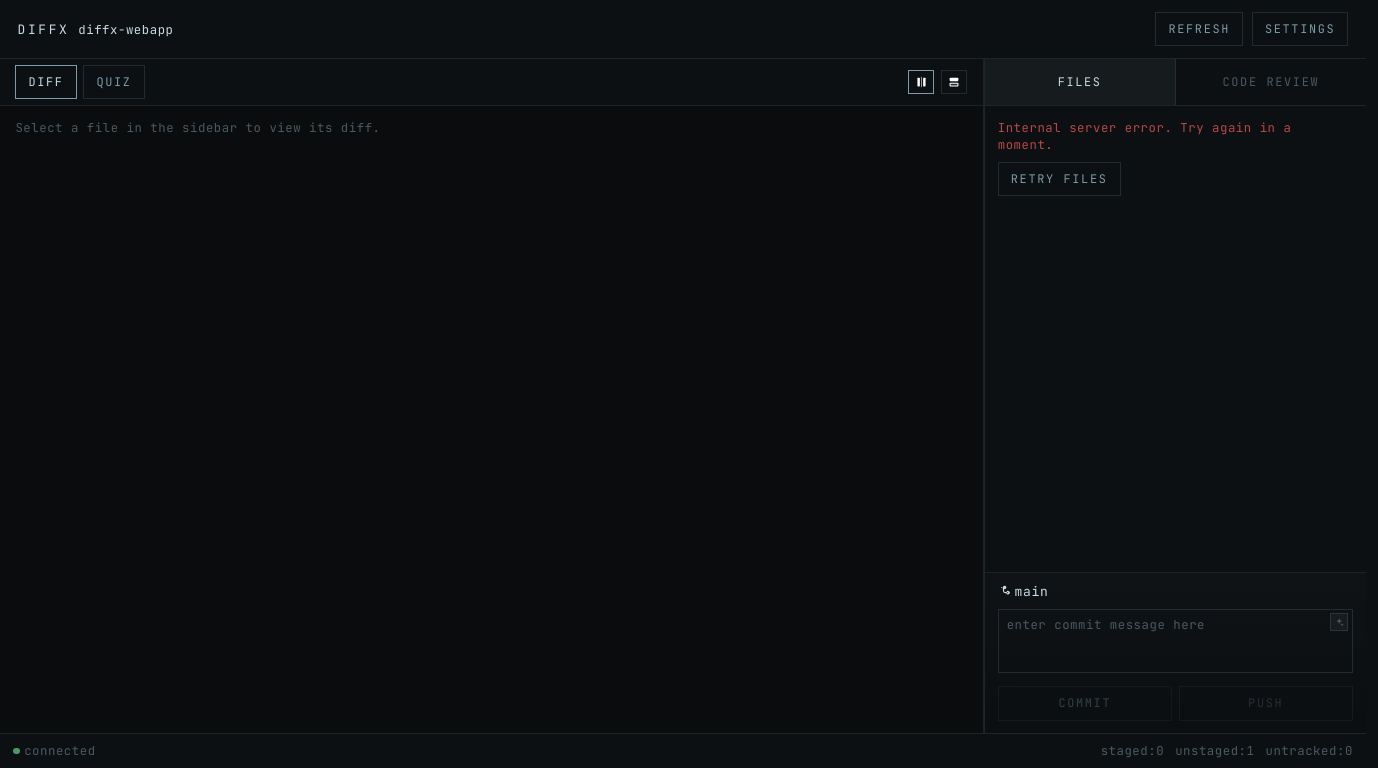
Scenario: App › retries files query on retryable failures
The image size is (1378, 768).
expect the text "Internal server error. Try again in a moment." is shown: met, box [998,119,1291,153]
Step 1. Click the button "retry files" → (1059, 179), box [998,162,1121,196]
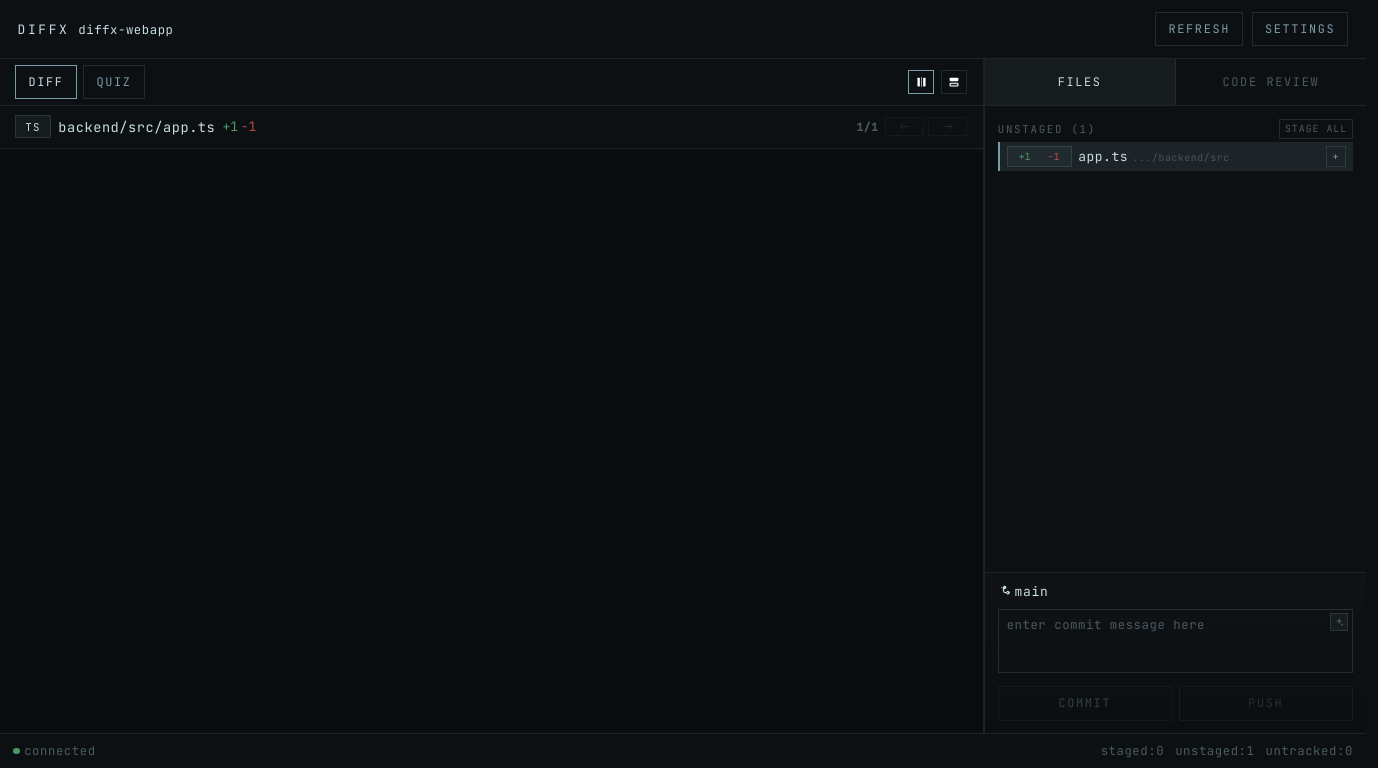
expect the button "+1 -1 app.ts .../backend/src" is shown: met, box [1006,146,1320,167]
